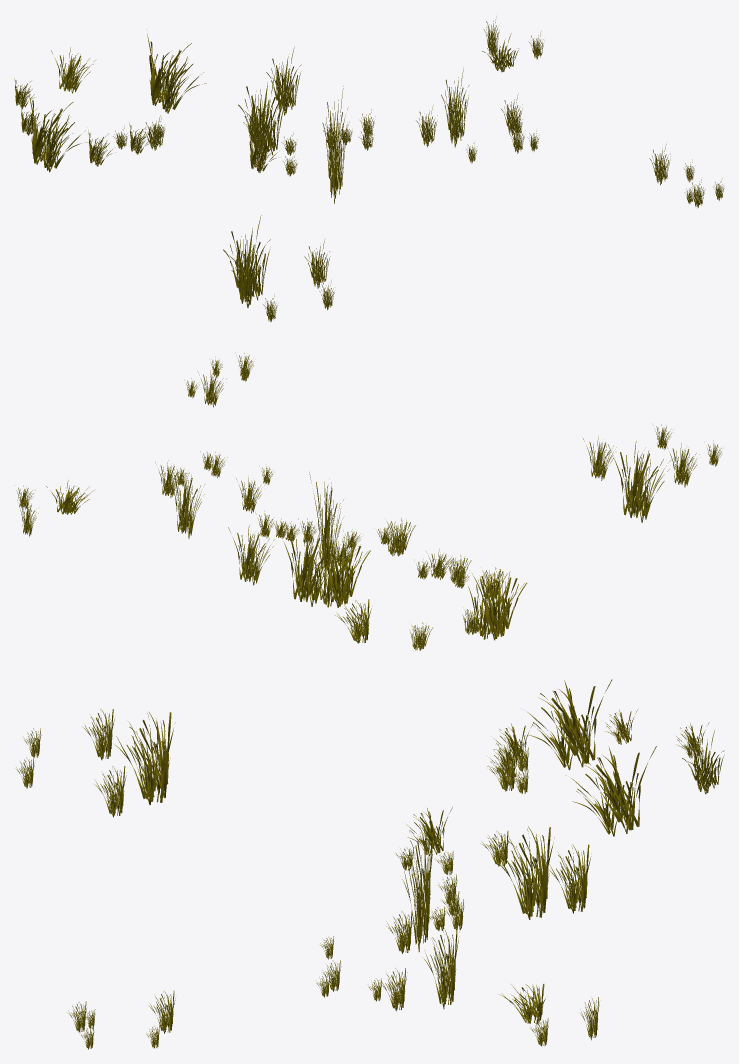
The model's file is GrassTest.fbx.
The picture shows the model from 3 angles, top to bottom: view 1: azimuth 30°, elevation 25°; view 2: azimuth 150°, elevation 25°; view 3: azimuth 270°, elevation 25°; orthographic projection. The views are drawn at different scales.
Visible parts, largest first — view 1: polySurface101, polySurface102, polySurface115, polySurface114, polySurface116, polySurface113, polySurface103, polySurface118, polySurface109, polySurface110, polySurface84, polySurface105; view 2: polySurface102, polySurface101, polySurface114, polySurface115, polySurface116, polySurface103, polySurface113, polySurface118, polySurface84, polySurface110, polySurface109, polySurface105; view 3: polySurface101, polySurface102, polySurface115, polySurface114, polySurface116, polySurface103, polySurface113, polySurface118, polySurface84, polySurface105, polySurface110, polySurface109.
Part boxes in pixels (x1,y1,x2,y2): polySurface101: [28, 88, 88, 172]; polySurface102: [146, 29, 206, 113]; polySurface115: [238, 70, 285, 161]; polySurface114: [223, 215, 270, 307]; polySurface116: [322, 86, 348, 203]; polySurface113: [441, 67, 469, 147]; polySurface103: [266, 46, 301, 115]; polySurface118: [51, 47, 96, 93]; polySurface109: [304, 238, 330, 288]; polySurface110: [231, 251, 257, 302]; polySurface84: [248, 131, 277, 172]; polySurface105: [482, 33, 518, 72]; polySurface102: [312, 536, 370, 607]; polySurface101: [468, 569, 526, 640]; polySurface114: [608, 441, 671, 522]; polySurface115: [277, 525, 340, 606]; polySurface116: [309, 472, 344, 572]; polySurface103: [228, 525, 274, 585]; polySurface113: [167, 468, 204, 538]; polySurface118: [335, 599, 371, 643]; polySurface84: [384, 518, 415, 556]; polySurface110: [666, 443, 699, 487]; polySurface109: [583, 436, 616, 480]; polySurface105: [46, 480, 95, 514]; polySurface101: [527, 679, 612, 769]; polySurface102: [565, 746, 656, 836]; polySurface115: [494, 826, 554, 919]; polySurface114: [114, 711, 175, 804]; polySurface116: [402, 829, 434, 951]; polySurface103: [548, 844, 591, 913]; polySurface113: [422, 928, 459, 1009]; polySurface118: [682, 730, 724, 794]; polySurface84: [406, 807, 452, 856]; polySurface105: [499, 984, 545, 1024]; polySurface110: [83, 709, 114, 760]; polySurface109: [94, 766, 126, 817].
Bounding box in the file's own units: 11.26 × 2.69 × 11.3.
